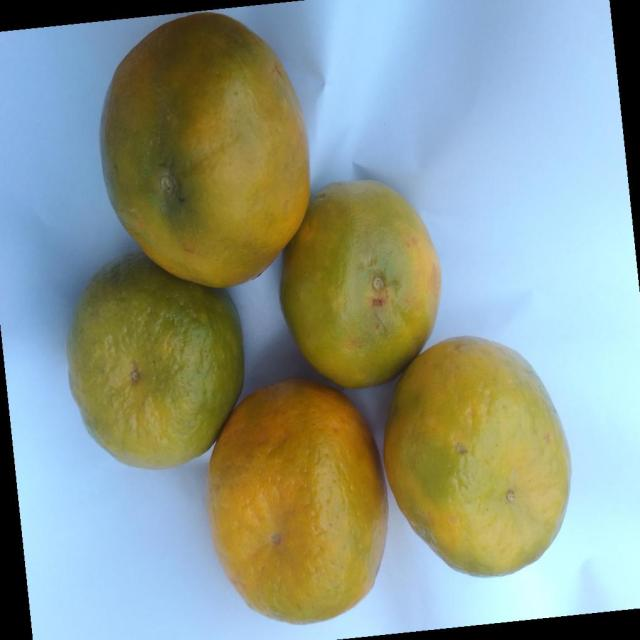fresh orange: (98, 11, 310, 287), (383, 334, 571, 577), (206, 377, 388, 624), (66, 250, 244, 470), (278, 178, 442, 388)
